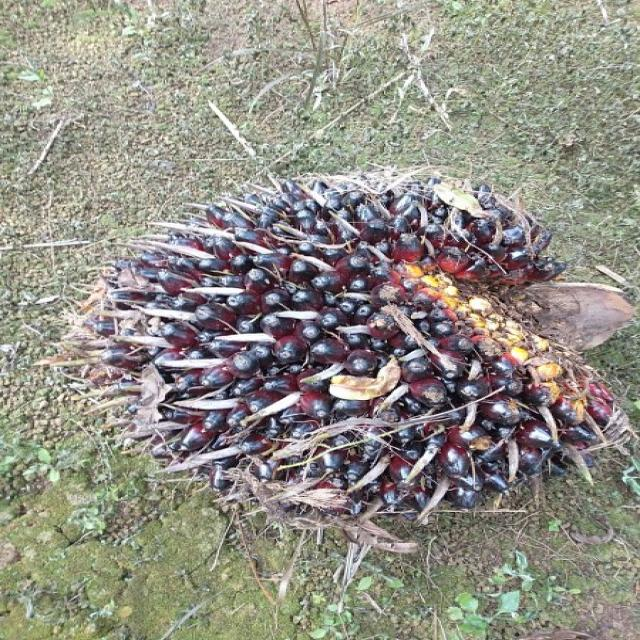fraksi 00: (42, 110, 622, 580)
